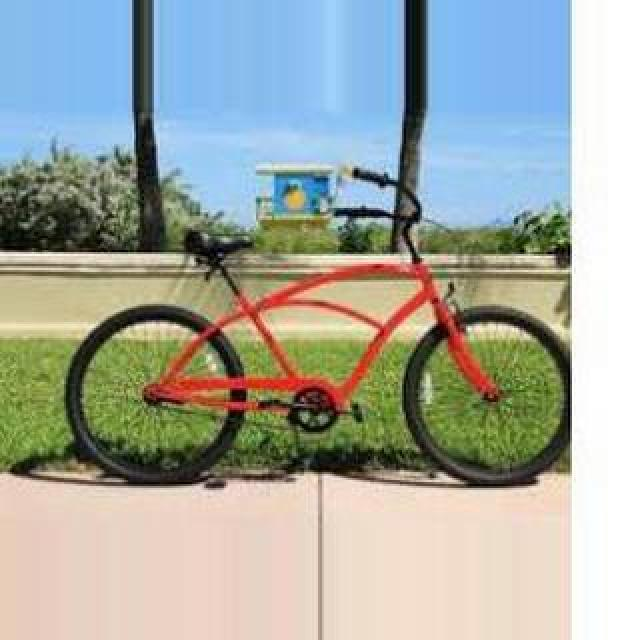Person: (62, 168, 574, 492)
